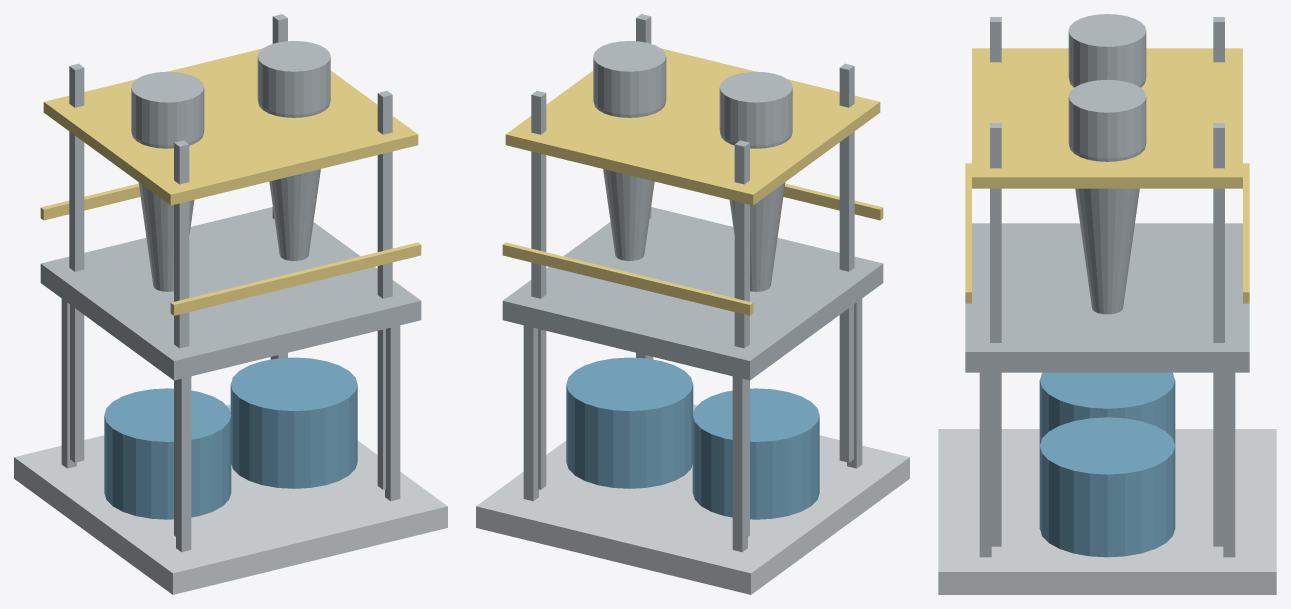
The model's file is dms.glb.
3 renders of one model, left to right at view 1: azimuth 30°, elevation 25°; view 2: azimuth 150°, elevation 25°; view 3: azimuth 270°, elevation 25°, orthographic. The views are drawn at different scales.
Parts seen in each view (by area): view 1: dms; view 2: dms; view 3: dms.
Boxes of the visible parts, x1,y1,x2,y2 form: dms: [14, 14, 447, 594]; dms: [476, 14, 909, 594]; dms: [938, 14, 1276, 594].
Bounding box in the file's own units: 8 × 12 × 8.
